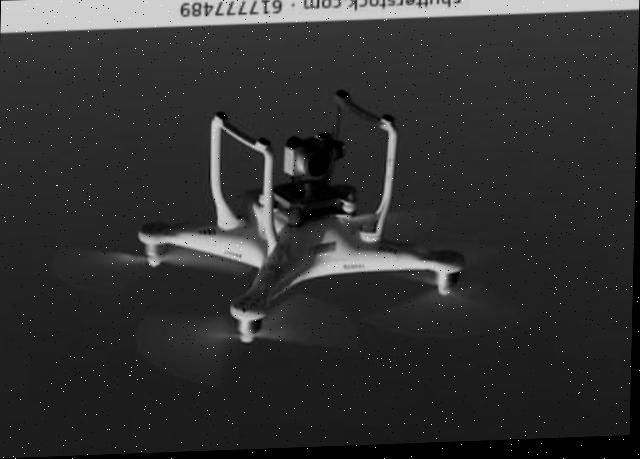drone: (54, 84, 526, 393)
